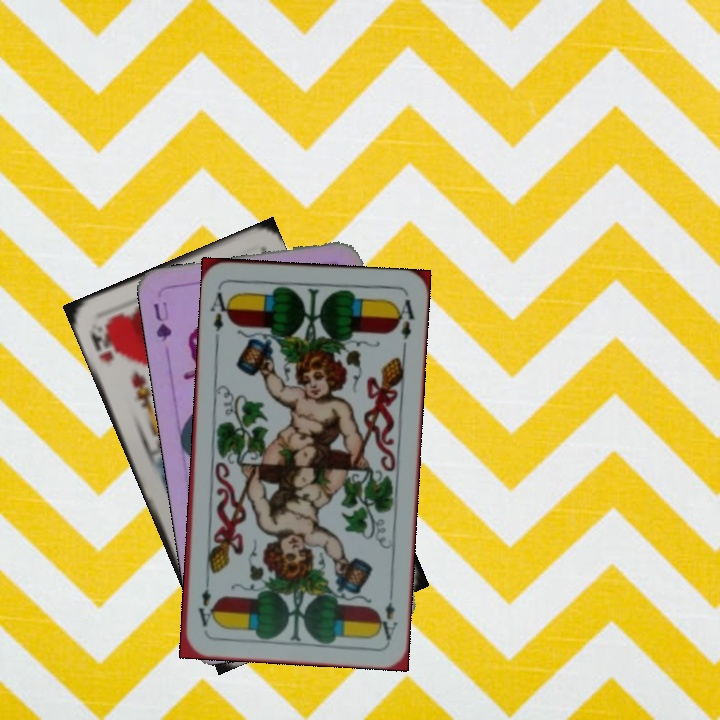EA: (374, 584, 400, 643), (206, 288, 234, 334)
GU: (149, 297, 174, 345)
HK: (85, 320, 119, 366)
